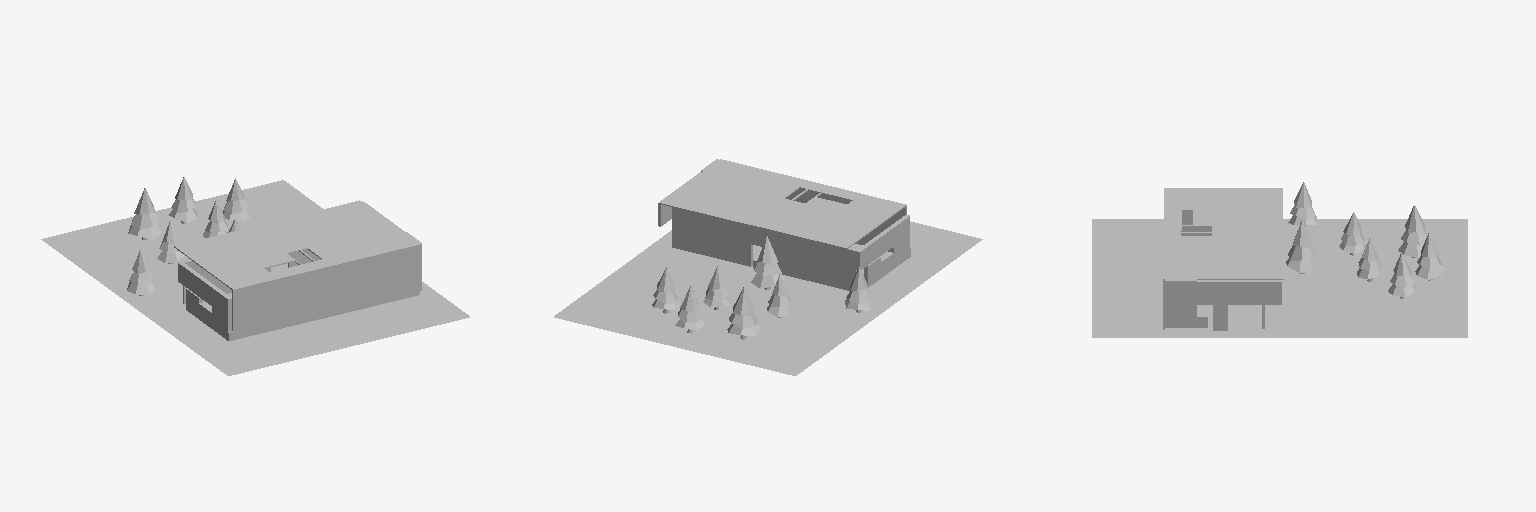
File: full_starting_map (3).obj
3 renders of one model, left to right at view 1: azimuth 30°, elevation 25°; view 2: azimuth 150°, elevation 25°; view 3: azimuth 270°, elevation 25°, orthographic.
Visible parts, largest first — view 1: Cube.001, Plane, Cylinder.004, Cylinder.005, Cylinder.002, Cylinder.007, Cylinder.006, Cylinder.001; view 2: Plane, Cube.001, Cylinder.004, Cylinder.003, Cylinder.005, Cylinder.002, Cylinder.007, Cylinder.006, Cylinder.001; view 3: Plane, Cube.001, Cylinder.003, Cylinder.004, Cylinder.002, Cylinder.007, Cylinder.005, Cylinder.001, Cylinder.006.
Part boxes in pixels (x1,y1,x2,y2): Cube.001: (174, 200, 421, 340); Plane: (41, 180, 469, 375); Cylinder.004: (128, 188, 161, 240); Cylinder.005: (127, 249, 155, 295); Cylinder.002: (169, 177, 197, 223); Cylinder.007: (223, 178, 249, 223); Cylinder.006: (157, 220, 184, 264); Cylinder.001: (203, 201, 228, 237); Plane: (554, 221, 982, 375); Cube.001: (658, 159, 910, 290); Cylinder.004: (727, 286, 760, 339); Cylinder.003: (751, 236, 784, 289); Cylinder.005: (845, 267, 873, 312); Cylinder.002: (675, 286, 704, 332); Cylinder.007: (652, 267, 680, 313); Cylinder.006: (767, 274, 793, 317); Cylinder.001: (703, 266, 730, 309); Plane: (1092, 219, 1467, 337); Cube.001: (1163, 188, 1283, 330); Cylinder.003: (1286, 221, 1319, 273); Cylinder.004: (1398, 205, 1426, 257); Cylinder.002: (1415, 233, 1444, 280); Cylinder.007: (1388, 252, 1415, 298); Cylinder.005: (1288, 182, 1316, 226); Cylinder.001: (1357, 237, 1383, 281); Cylinder.006: (1339, 212, 1365, 255).
Size of the model in its own units: 59.25 by 14.26 by 79.23.